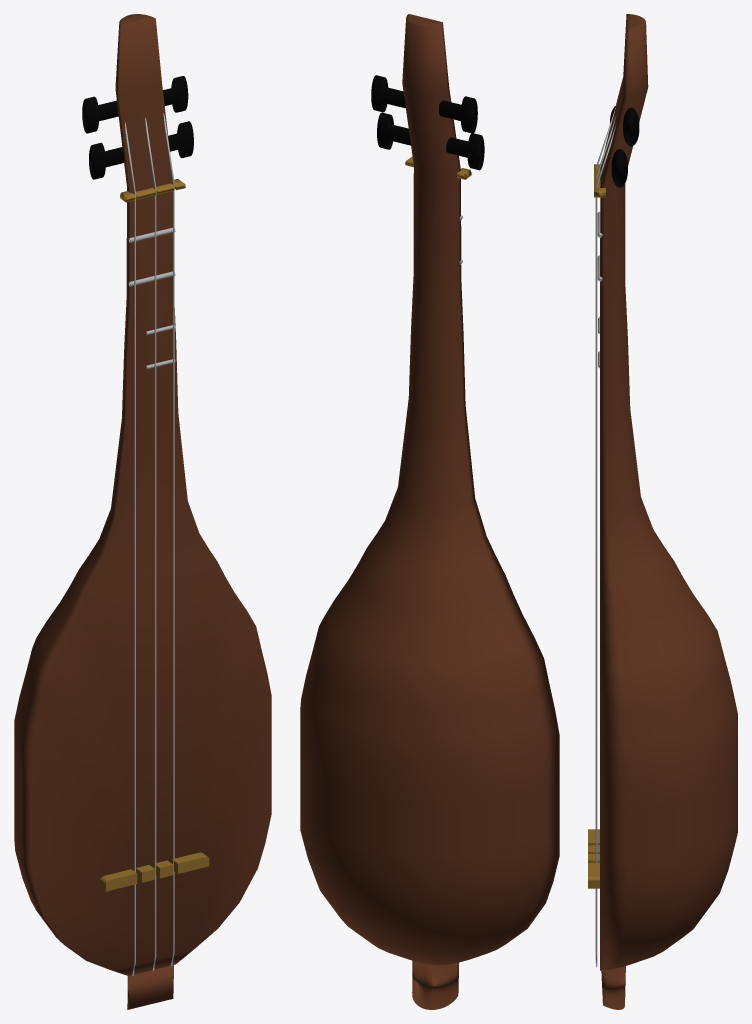
Rendered from Panting_FathiahNuraisyahRadam.fbx.
3 views of the same model, side by side, from view 1: azimuth 30°, elevation 25°; view 2: azimuth 150°, elevation 25°; view 3: azimuth 270°, elevation 25° (orthographic).
Visible parts, largest first — view 1: Panting; view 2: Panting; view 3: Panting.
Boxes of the visible parts, x1,y1,x2,y2 form: Panting: (14, 14, 271, 1009); Panting: (300, 14, 559, 1009); Panting: (588, 14, 737, 1009).
Bounding box in the file's own units: 100 × 395 × 54.47.
